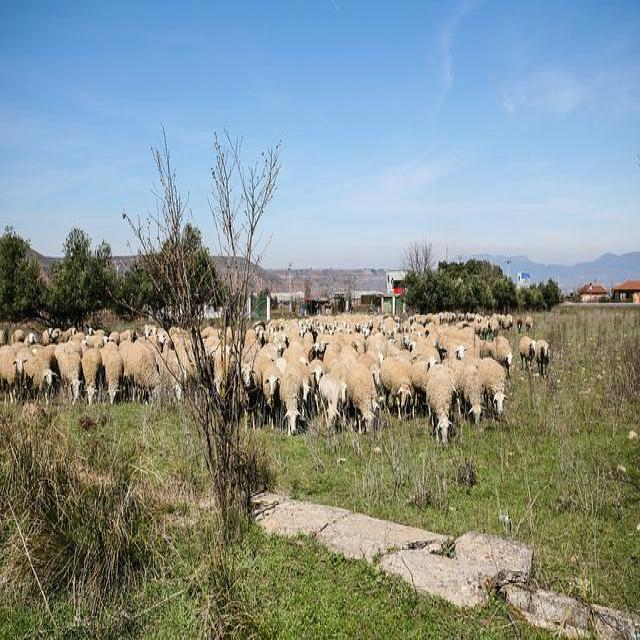Sheep: (0, 307, 552, 439), (119, 340, 161, 394), (380, 355, 413, 418)
